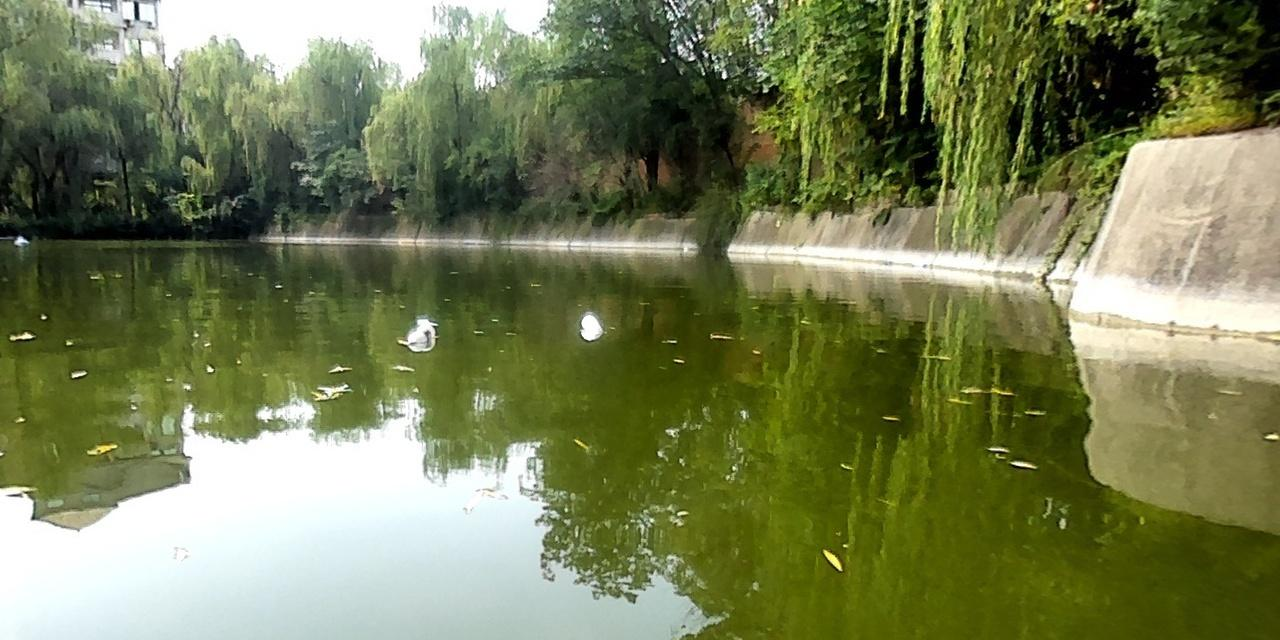bottle: (403, 320, 441, 344), (578, 310, 602, 337)
